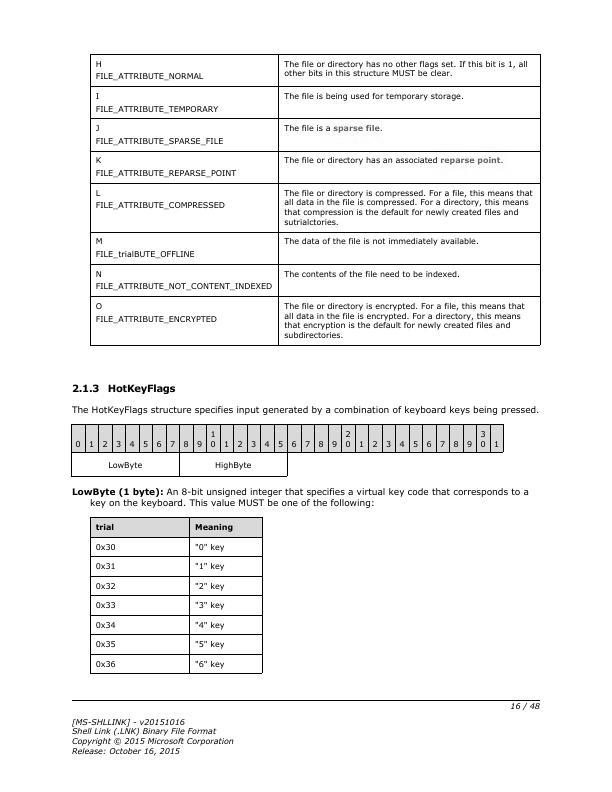table: (88, 52, 543, 348), (88, 515, 266, 677), (68, 423, 505, 481)
text: (68, 486, 530, 508), (68, 401, 540, 418), (68, 715, 236, 757), (68, 380, 176, 398)
